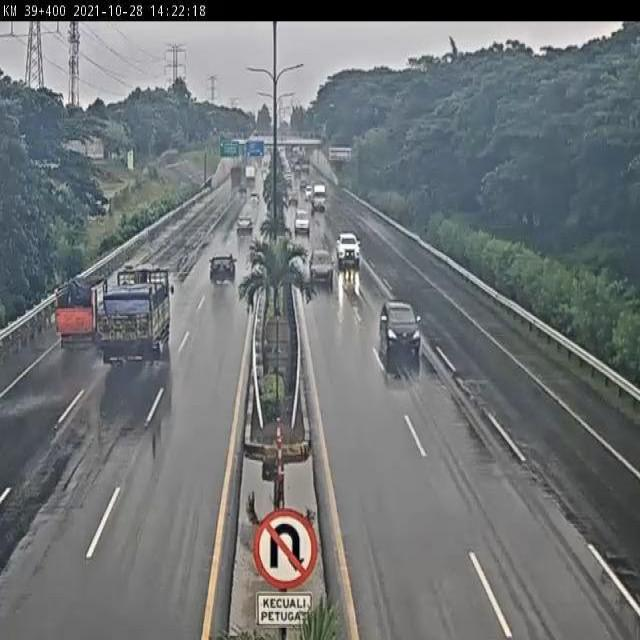car: (378, 298, 421, 351), (335, 231, 360, 268), (308, 251, 335, 285), (208, 253, 236, 283), (293, 208, 310, 235), (236, 213, 253, 235)
truck-l-: (96, 268, 171, 365)
truck-s-: (55, 277, 109, 347)
